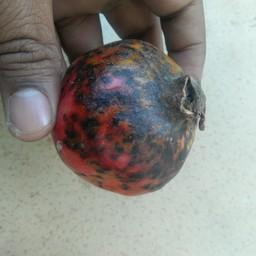Bad_pomegranate: (49, 33, 211, 206)
